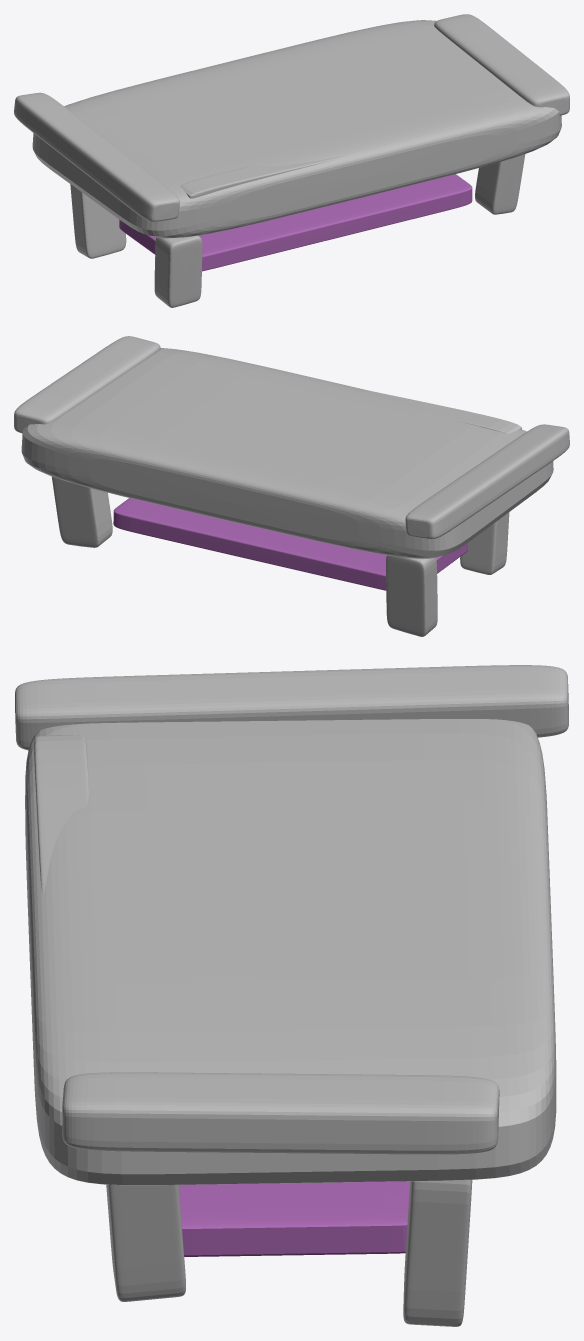
Rendered from edited_abstraction_categorized.glb.
3 renders of one model, top to bottom at view 1: azimuth 30°, elevation 25°; view 2: azimuth 150°, elevation 25°; view 3: azimuth 270°, elevation 25°, orthographic. The views are drawn at different scales.
Visible parts, largest first — view 1: world; view 2: world; view 3: world.
Part boxes in pixels (left/top/right/bottom): world: left=14, top=14, right=569, bottom=307; world: left=14, top=336, right=569, bottom=636; world: left=15, top=665, right=568, bottom=1326.
Bounding box in the file's own units: 0.8382 × 0.2659 × 0.4545.
